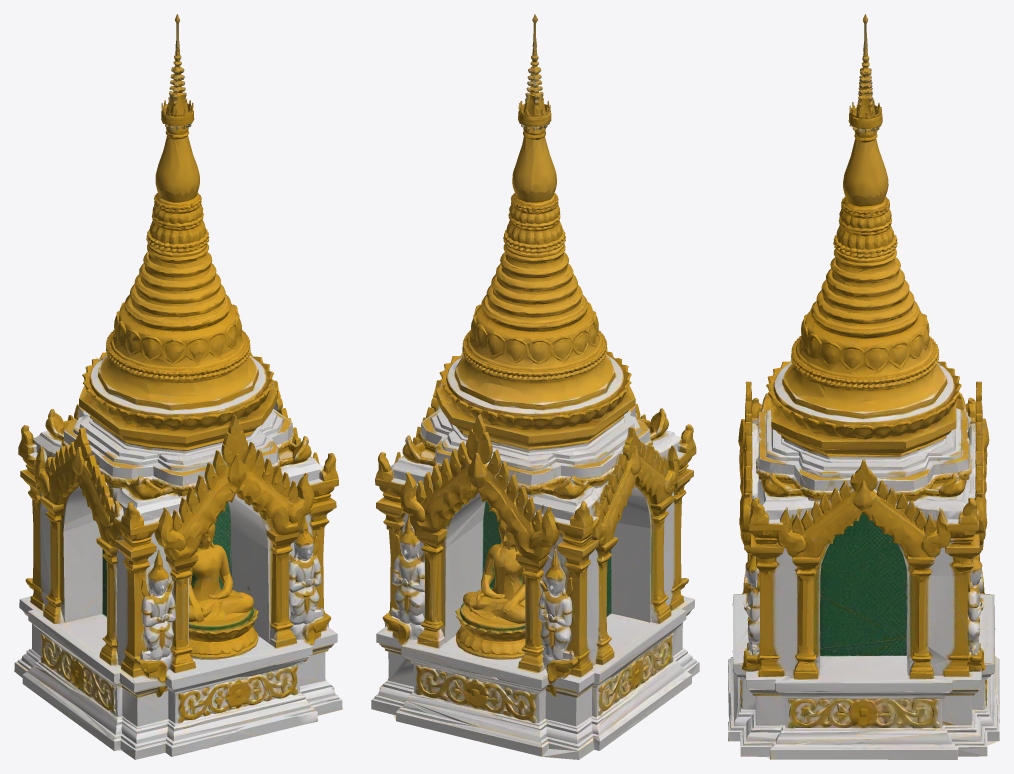
Rendered from shrine.glb.
The picture shows the model from 3 angles, left to right: view 1: azimuth 30°, elevation 25°; view 2: azimuth 150°, elevation 25°; view 3: azimuth 270°, elevation 25°; orthographic projection. The views are drawn at different scales.
Parts seen in each view (by area): view 1: Mesh_0; view 2: Mesh_0; view 3: Mesh_0.
Part boxes in pixels (<box>): Mesh_0: <box>14,14,342,759</box>; Mesh_0: <box>371,14,699,759</box>; Mesh_0: <box>728,14,999,759</box>.
Bounding box in the file's own units: 0.6498 × 1.9 × 0.6784.
Materials: 1 (1 with a texture image).
